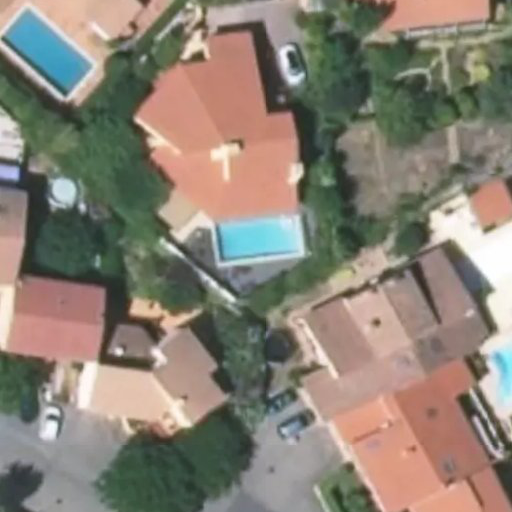pool: (2, 6, 94, 106), (215, 216, 306, 259), (491, 339, 512, 412)
